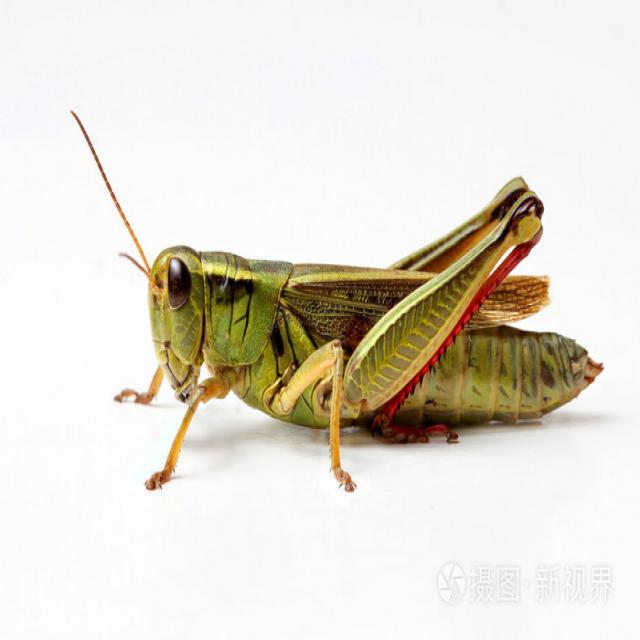ZhaMeng: (76, 148, 615, 522)
